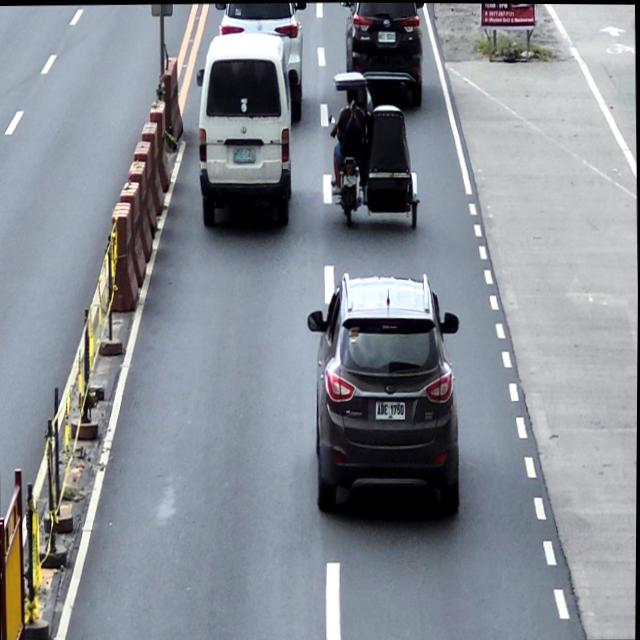Car: (305, 268, 462, 516), (194, 29, 293, 227), (213, 2, 308, 122), (337, 2, 425, 105)
License-Plate: (375, 397, 407, 420), (232, 145, 256, 163), (377, 30, 396, 42), (343, 173, 357, 186)
Tricycle: (327, 67, 422, 233)
